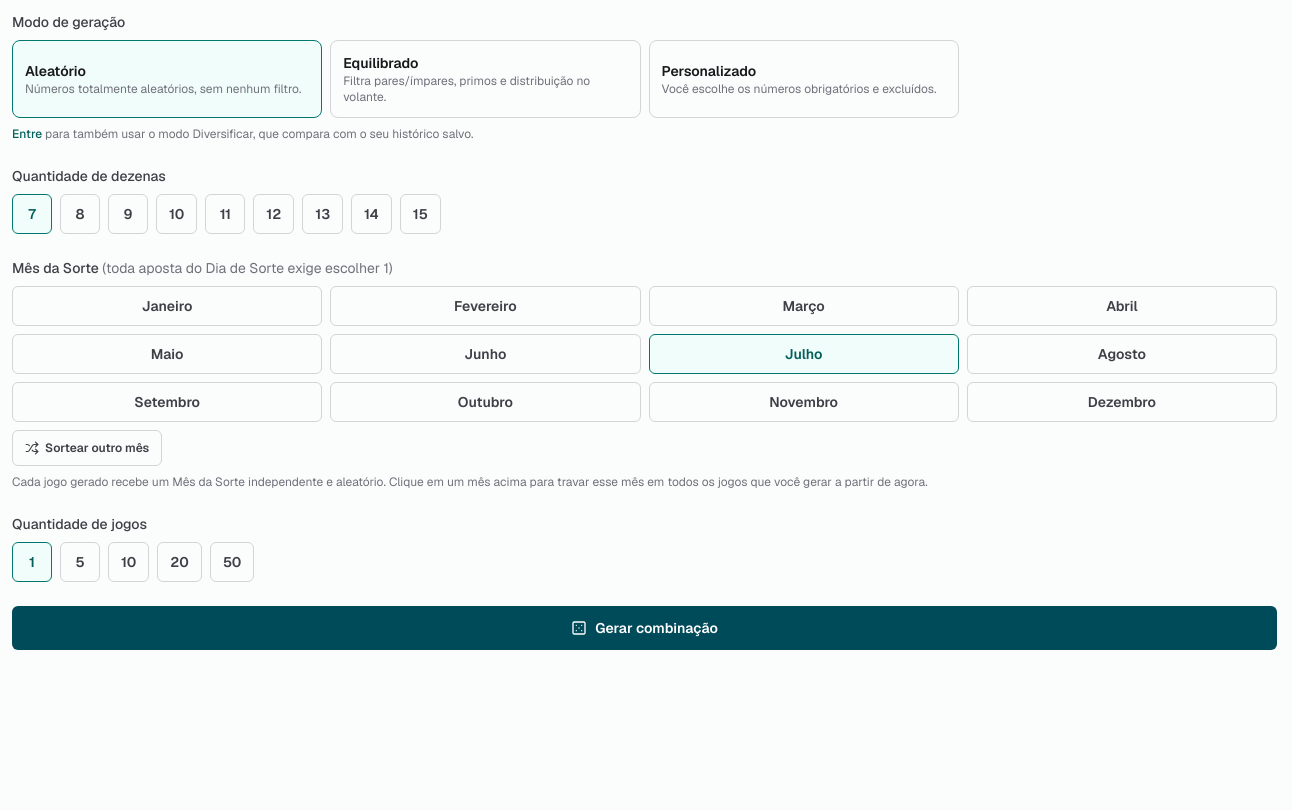
DiaDeSorteGenerator › mostra os controles do modo Personalizado somente quando selecionado
The image size is (1292, 810).
Expected: the text "Quero incluir" is not shown
Click the button "Personalizado" at (804,79), box [648,40,959,118]
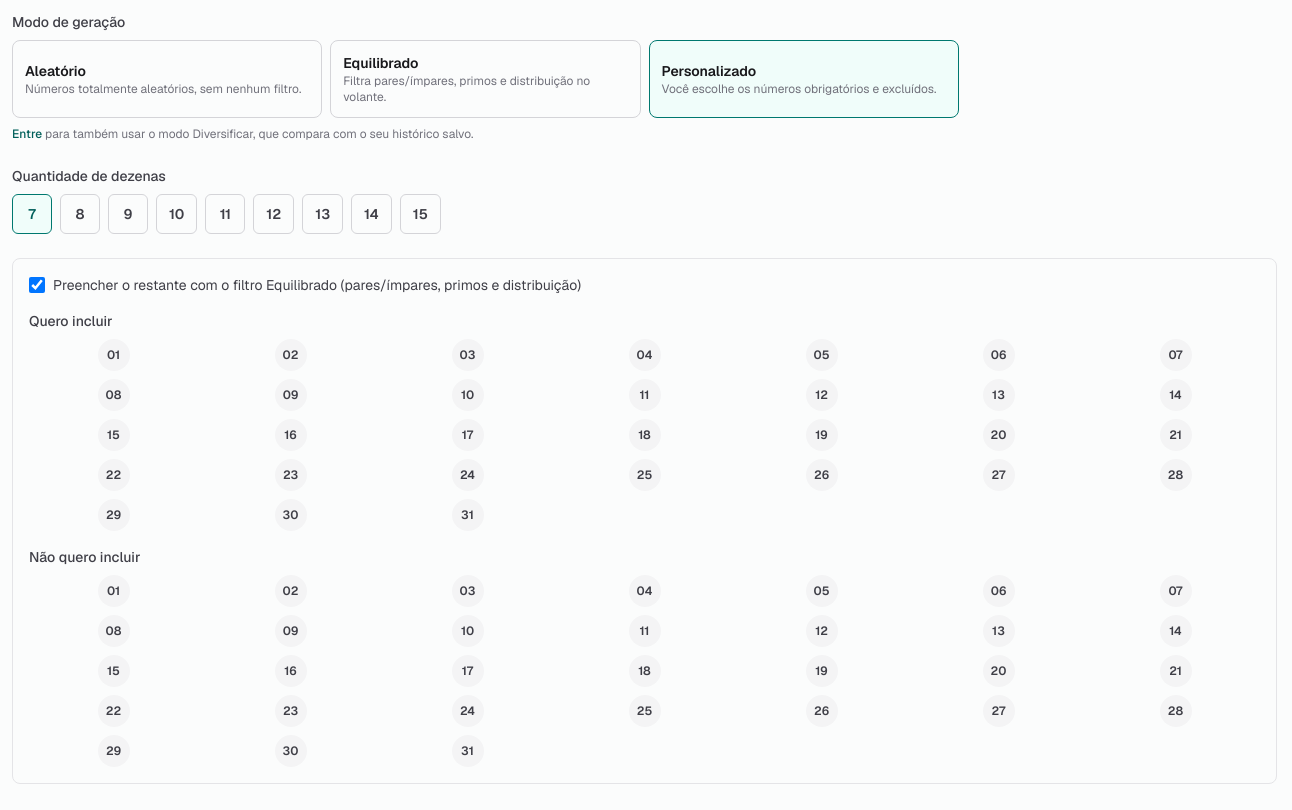
Now the text "Quero incluir" is shown, box [29,312,113,330]
Now the text "Não quero incluir" is shown, box [29,548,140,566]
